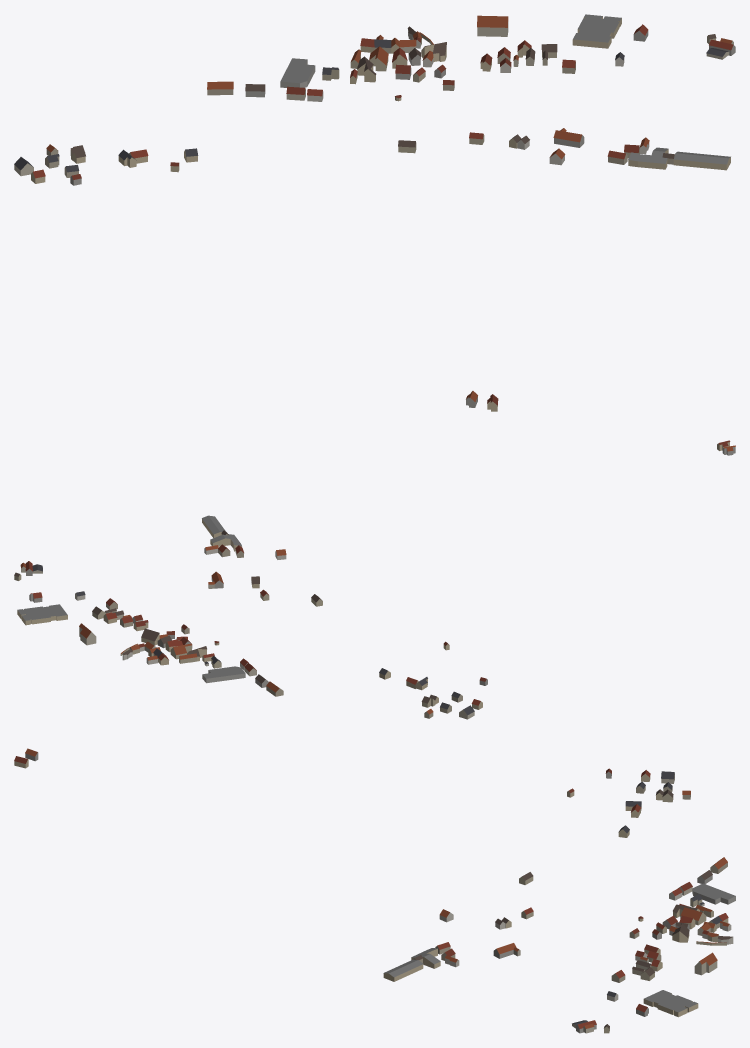
The picture shows the model from 3 angles, top to bottom: view 1: azimuth 30°, elevation 25°; view 2: azimuth 150°, elevation 25°; view 3: azimuth 270°, elevation 25°; orthographic projection. The views are drawn at different scales.
Visible parts, largest first — view 1: buildings; view 2: buildings; view 3: buildings.
Boxes of the visible parts, <box> form: buildings: <box>14,14,735,411</box>; buildings: <box>14,440,735,719</box>; buildings: <box>14,748,735,1033</box>.
Bounding box in the file's own units: 690 × 64.69 × 820.
